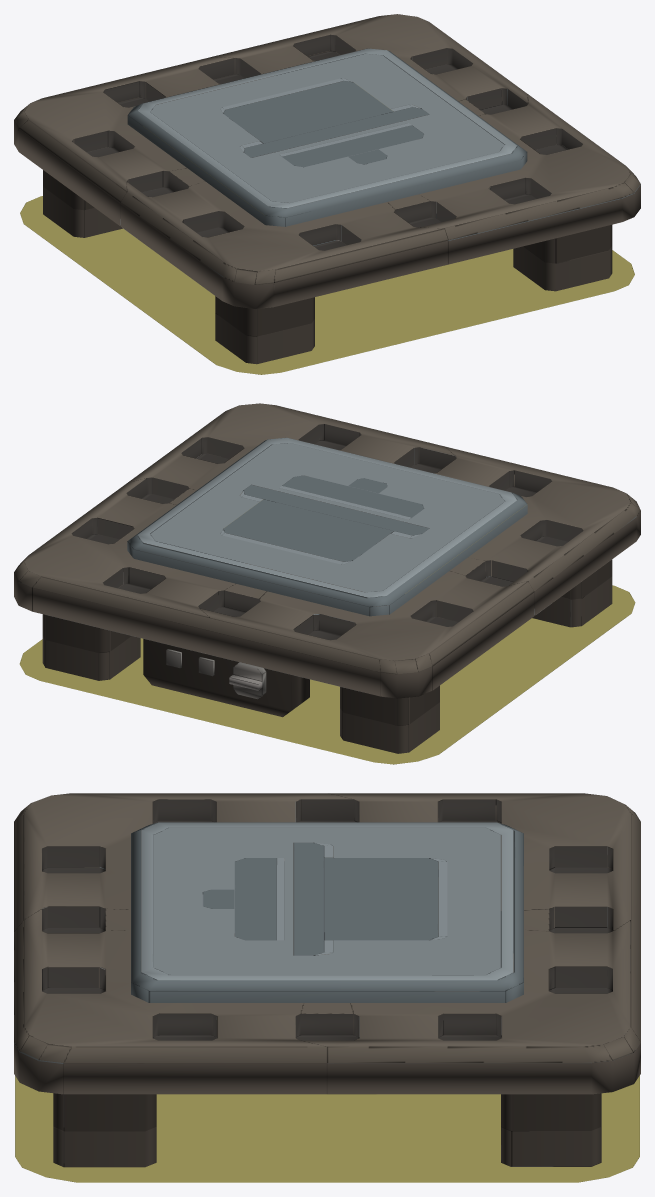
Rendered from BC_stove.fbx.
3 renders of one model, top to bottom at view 1: azimuth 30°, elevation 25°; view 2: azimuth 150°, elevation 25°; view 3: azimuth 270°, elevation 25°, orthographic. The views are drawn at different scales.
Visible parts, largest first — view 1: BC_stove; view 2: BC_stove; view 3: BC_stove.
Boxes of the visible parts, <box> form: BC_stove: <box>14,14,640,374</box>; BC_stove: <box>14,403,640,764</box>; BC_stove: <box>14,793,640,1182</box>.
Bounding box in the file's own units: 4.9 × 1.33 × 4.94.
